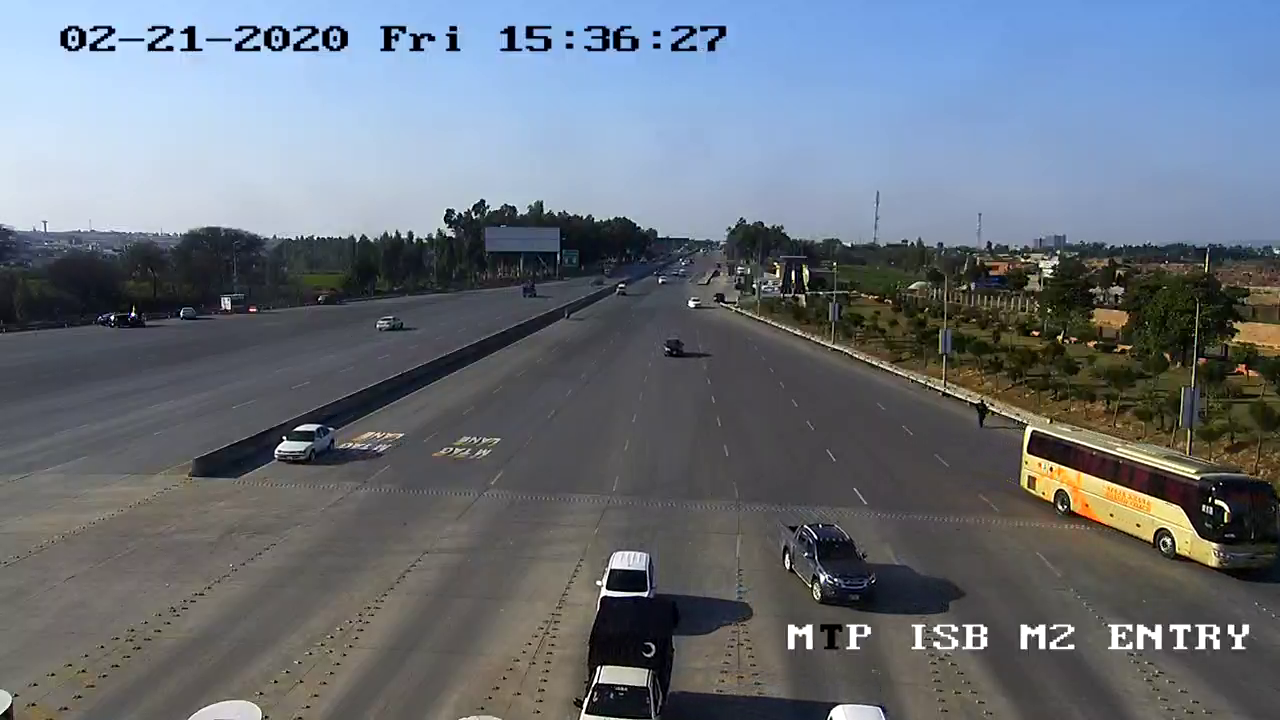f1: (774, 509, 888, 615), (268, 411, 342, 468)
f4: (1014, 406, 1280, 586)
